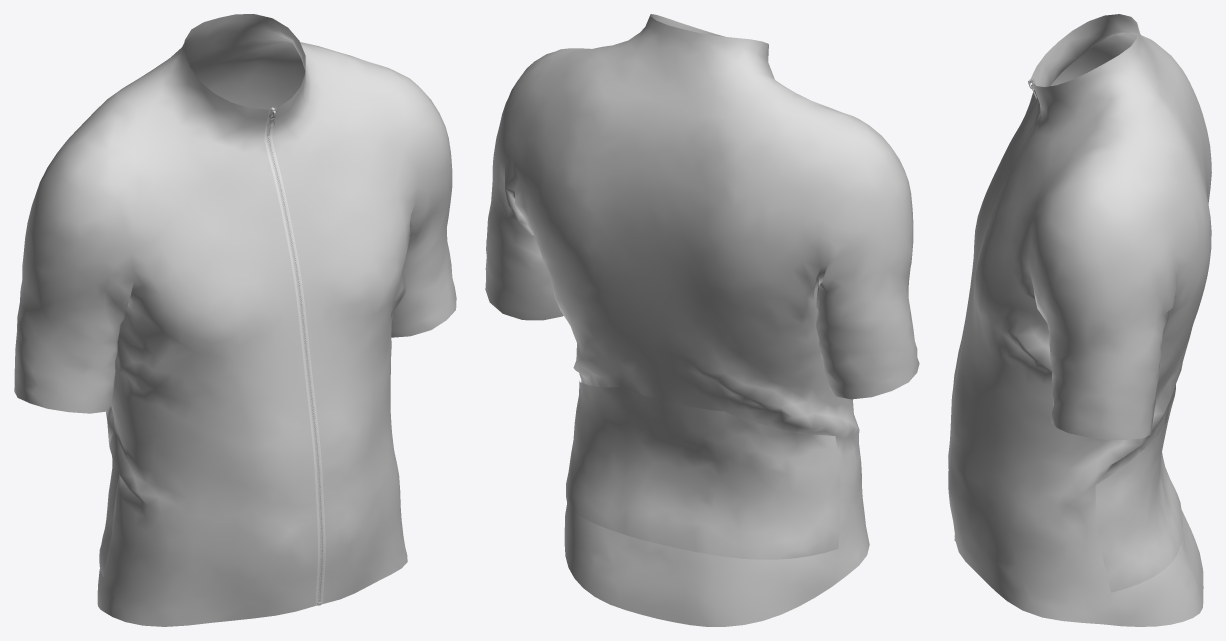
Rendered from jerseycycling.glb.
3 renders of one model, left to right at view 1: azimuth 30°, elevation 25°; view 2: azimuth 150°, elevation 25°; view 3: azimuth 270°, elevation 25°, orthographic. The views are drawn at different scales.
Visible parts, largest first — view 1: Cloth; view 2: Cloth; view 3: Cloth.
Boxes of the visible parts, left/top/right/bottom form: Cloth: left=14, top=14, right=456, bottom=626; Cloth: left=485, top=14, right=919, bottom=626; Cloth: left=948, top=14, right=1211, bottom=626.
Bounding box in the file's own units: 0.5114 × 0.6554 × 0.2797.
Materials: 9 (8 with a texture image).
